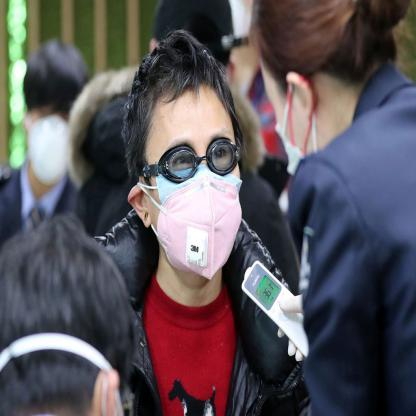Wearing_Mask: (147, 125, 242, 279), (29, 101, 73, 186)
